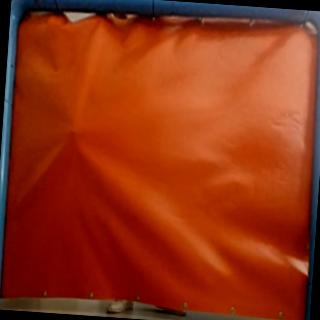Hit-hRxx: (63, 126, 83, 144)
